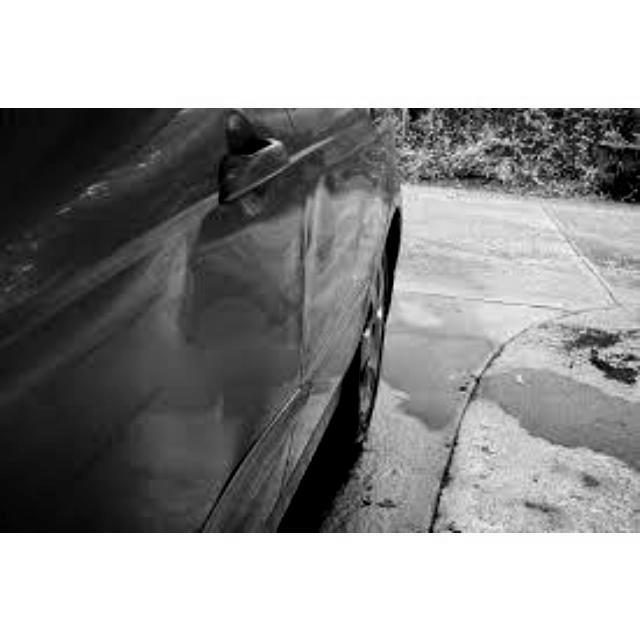doorouter-dent: (131, 140, 312, 530)
